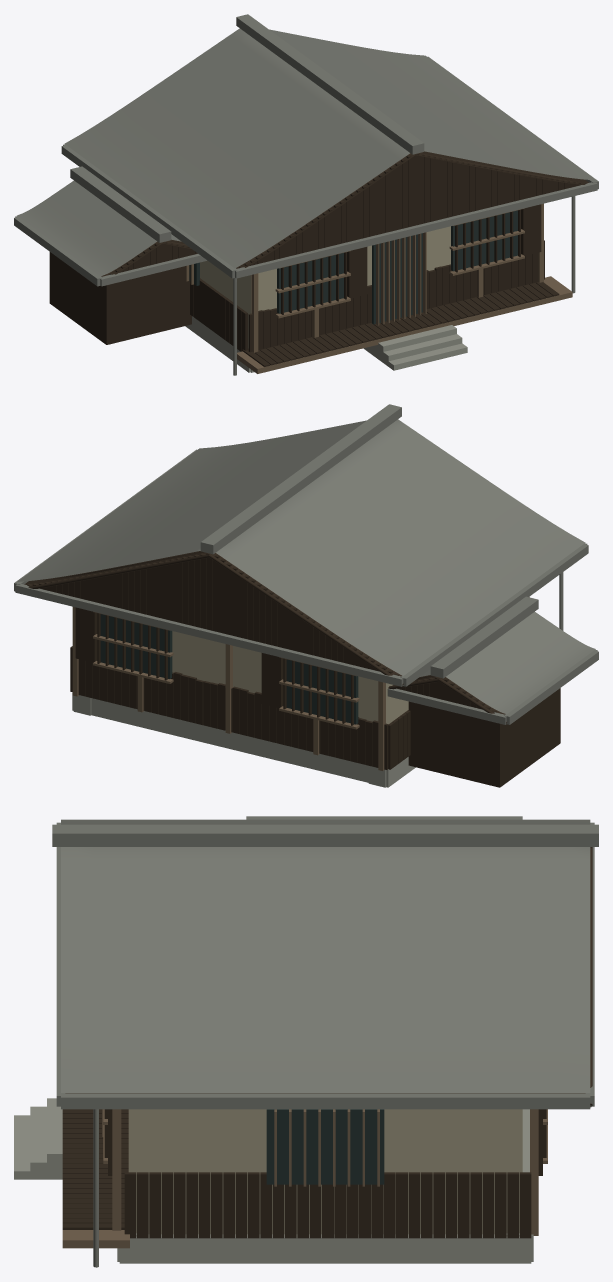
File: metal-house.glb
3 views of the same model, one above another, from view 1: azimuth 30°, elevation 25°; view 2: azimuth 150°, elevation 25°; view 3: azimuth 270°, elevation 25° (orthographic). The views are drawn at different scales.
Parts seen in each view (by area): view 1: metal, darkwood, wood, glass, stone, plaster; view 2: metal, darkwood, stone, plaster, glass, wood; view 3: metal, darkwood, plaster, stone, glass, wood.
Part boxes in pixels (x1,y1,x2,y2): metal: [14, 14, 598, 375]; darkwood: [49, 151, 588, 366]; wood: [186, 203, 572, 373]; glass: [189, 210, 517, 324]; stone: [185, 316, 467, 372]; plaster: [200, 226, 450, 348]; metal: [14, 404, 598, 724]; darkwood: [24, 551, 560, 787]; stone: [72, 693, 415, 787]; plaster: [172, 631, 408, 724]; glass: [100, 614, 358, 724]; wood: [72, 597, 529, 770]; metal: [52, 816, 598, 1267]; darkwood: [62, 847, 592, 1238]; plaster: [128, 1109, 522, 1234]; stone: [14, 1098, 533, 1263]; glass: [266, 1109, 384, 1184]; wood: [62, 1109, 547, 1248].
Size of the model in its own units: 13.37 by 6.05 by 9.95.
